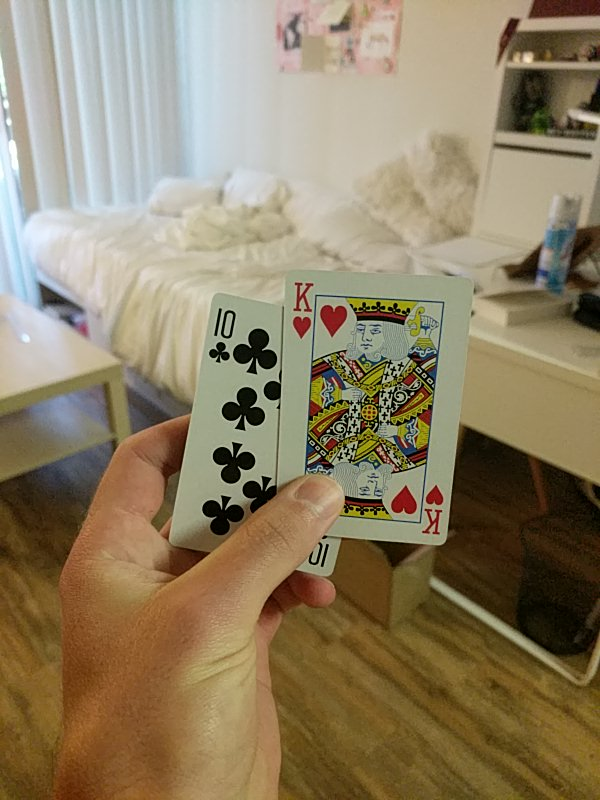Clubs: (167, 293, 343, 577)
Hearts: (277, 269, 470, 544)
